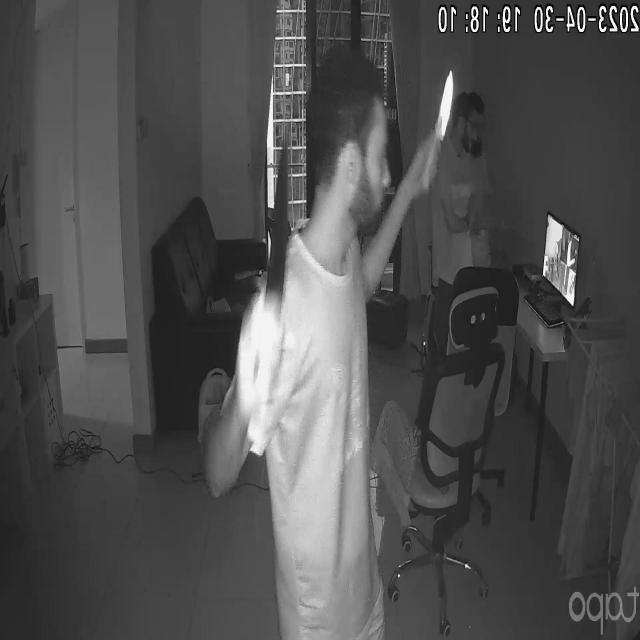Knife: (253, 127, 306, 315), (427, 64, 470, 151)
